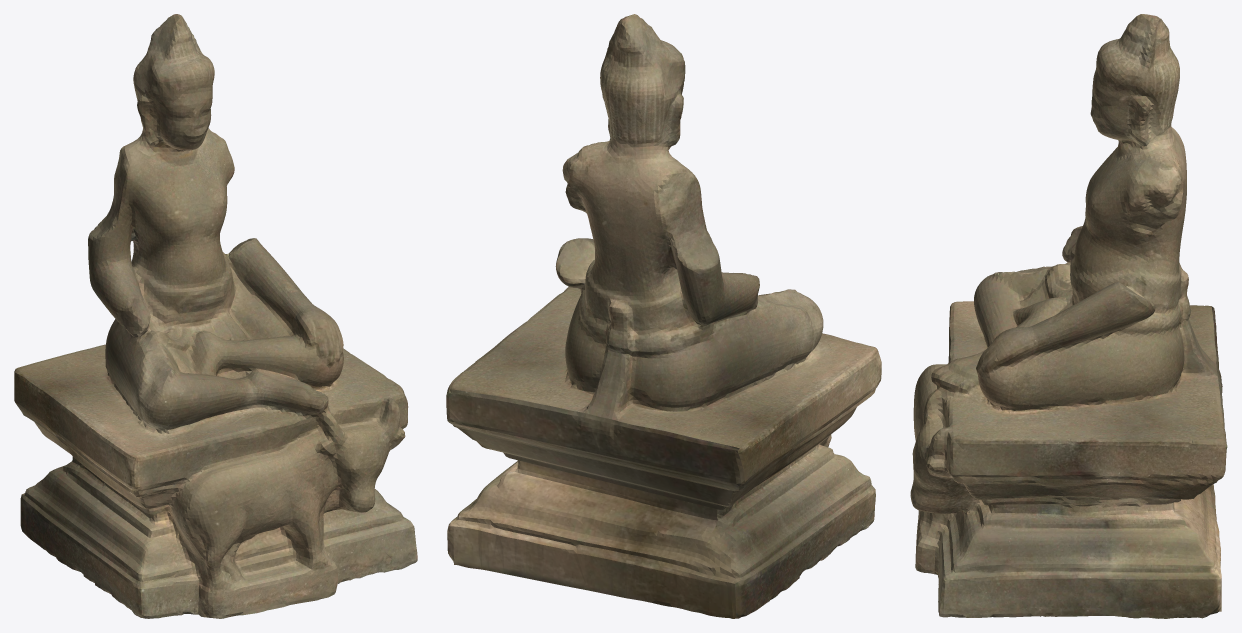
Rendered from 20_thanphuonghuong_final.glb.
3 views of the same model, side by side, from view 1: azimuth 30°, elevation 25°; view 2: azimuth 150°, elevation 25°; view 3: azimuth 270°, elevation 25° (orthographic). The views are drawn at different scales.
Bounding box in the file's own units: 0.3945 × 0.6861 × 0.3685.
1 material, 1 textured.
